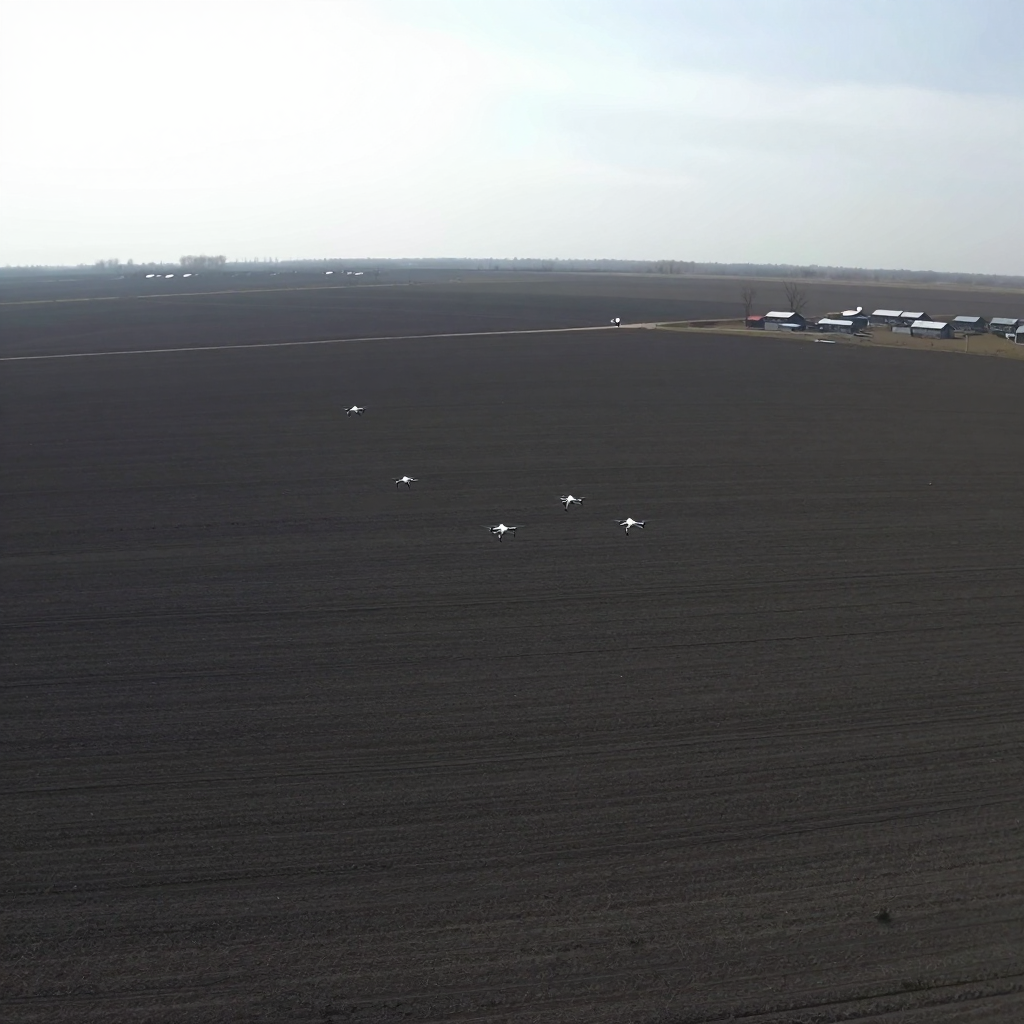drone: (480, 521, 526, 542), (613, 518, 647, 536), (560, 495, 586, 512), (391, 476, 419, 490), (342, 405, 367, 418)
